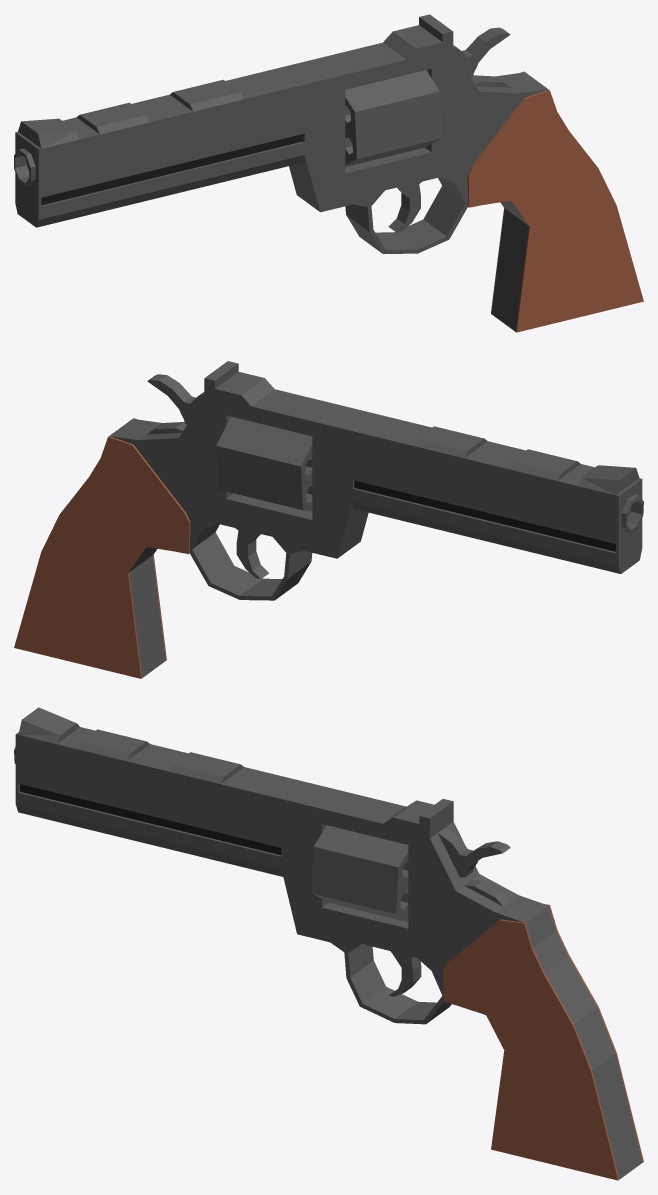
File: magnum.fbx
3 views of the same model, one above another, from view 1: azimuth 30°, elevation 25°; view 2: azimuth 150°, elevation 25°; view 3: azimuth 330°, elevation 25° (orthographic).
Visible parts, largest first — view 1: Cube.001; view 2: Cube.001; view 3: Cube.001.
Boxes of the visible parts, <box> form: Cube.001: <box>14,14,643,332</box>; Cube.001: <box>14,361,643,678</box>; Cube.001: <box>14,707,643,1180</box>.
Size of the model in its own units: 168 by 82.95 by 21.67.
1 material, 1 textured.
